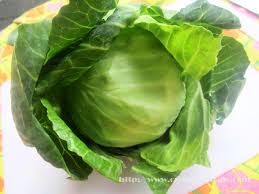cabbage: (62, 31, 194, 149)
